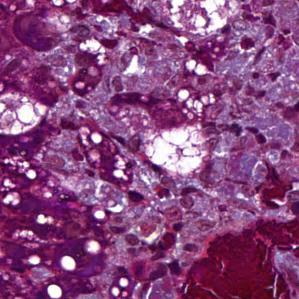ballooning: (140, 122, 211, 177), (165, 0, 242, 35), (0, 89, 49, 137)
